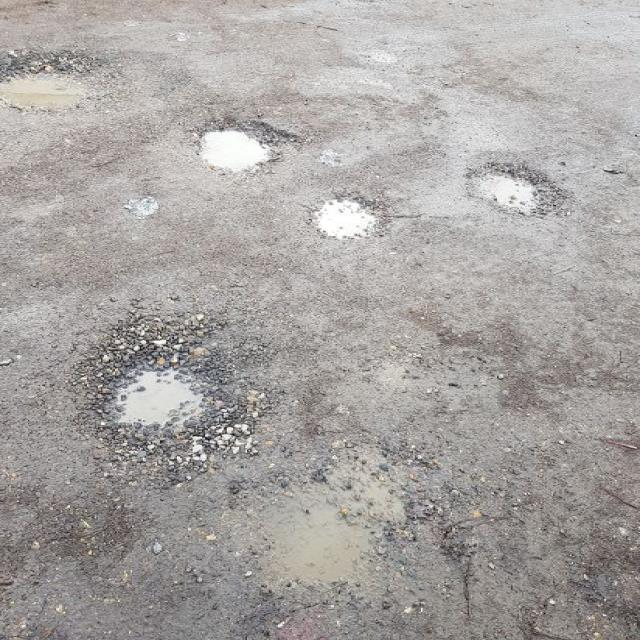pothole: (72, 300, 266, 475), (0, 47, 120, 116), (452, 164, 569, 218), (183, 122, 278, 176), (300, 190, 390, 240)
